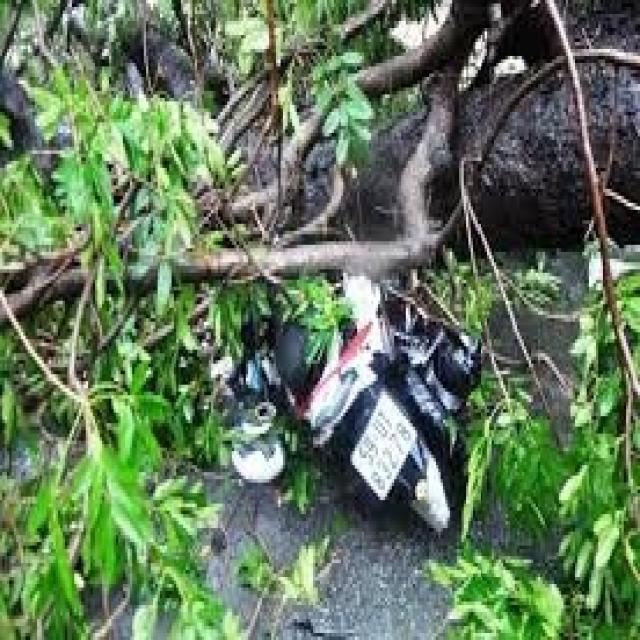fallen_object: (34, 0, 632, 353)
